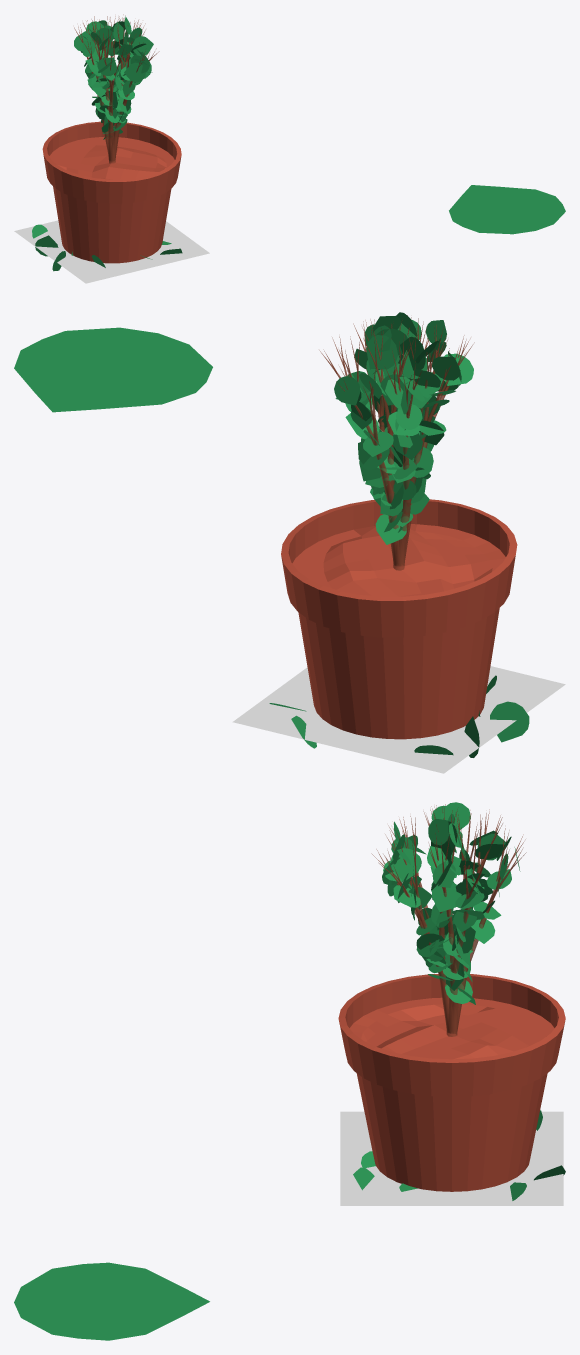
File: aswwaganddha.glb
3 renders of one model, top to bottom at view 1: azimuth 30°, elevation 25°; view 2: azimuth 150°, elevation 25°; view 3: azimuth 270°, elevation 25°, orthographic. The views are drawn at different scales.
Visible parts, largest first — view 1: Cylinder, Plane.001, Plane, tree; view 2: Cylinder, Plane.001 (×4), Plane, tree; view 3: Cylinder, Plane.001, Plane, tree.
Boxes of the visible parts, bbox=[...] form: Cylinder: bbox=[42, 121, 181, 263]; Plane.001: bbox=[449, 185, 565, 234]; Plane: bbox=[14, 220, 209, 283]; tree: bbox=[74, 14, 159, 163]; Cylinder: bbox=[281, 499, 517, 739]; Plane.001 (×4): bbox=[14, 327, 529, 742]; Plane: bbox=[232, 666, 565, 773]; tree: bbox=[319, 315, 474, 570]; Cylinder: bbox=[338, 974, 565, 1191]; Plane.001: bbox=[14, 1262, 209, 1340]; Plane: bbox=[340, 1111, 563, 1205]; tree: bbox=[371, 804, 526, 1036].
Bounding box in the file's own units: 9.21 × 5.17 × 7.07.
